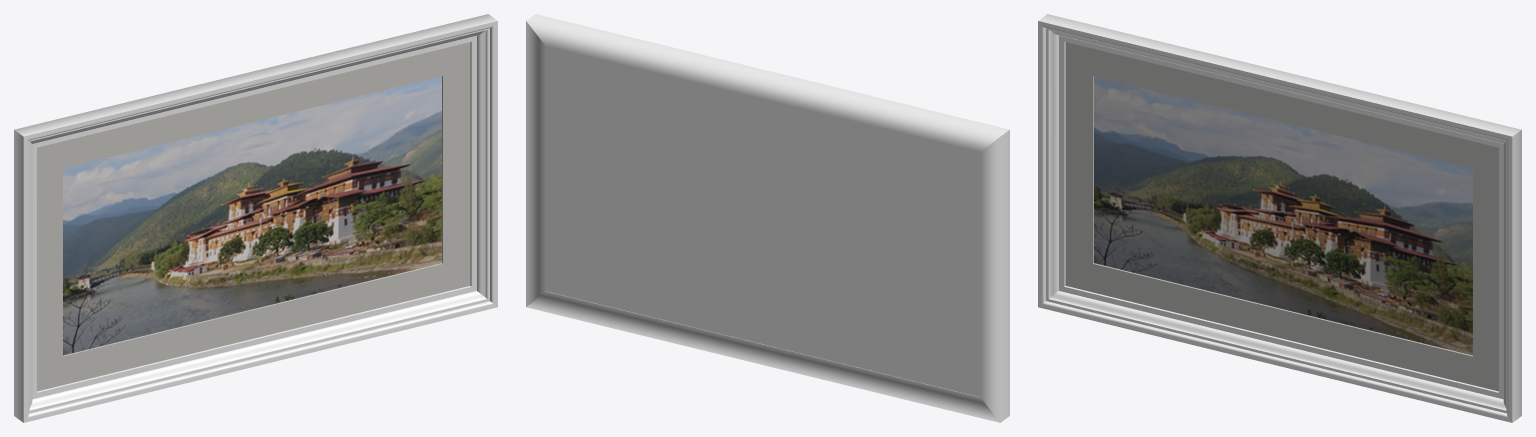
The model's file is Picture 3.FBX.
The picture shows the model from 3 angles, left to right: view 1: azimuth 30°, elevation 25°; view 2: azimuth 150°, elevation 25°; view 3: azimuth 330°, elevation 25°; orthographic projection.
Visible parts, largest first — view 1: Picture 3; view 2: Picture 3; view 3: Picture 3.
Part boxes in pixels (x1=…): Picture 3: x1=14, y1=14, x2=497, y2=422; Picture 3: x1=526, y1=14, x2=1009, y2=422; Picture 3: x1=1038, y1=14, x2=1521, y2=422.
Size of the model in its own units: 34.12 by 19.69 by 1.18.
1 material, 1 textured.
